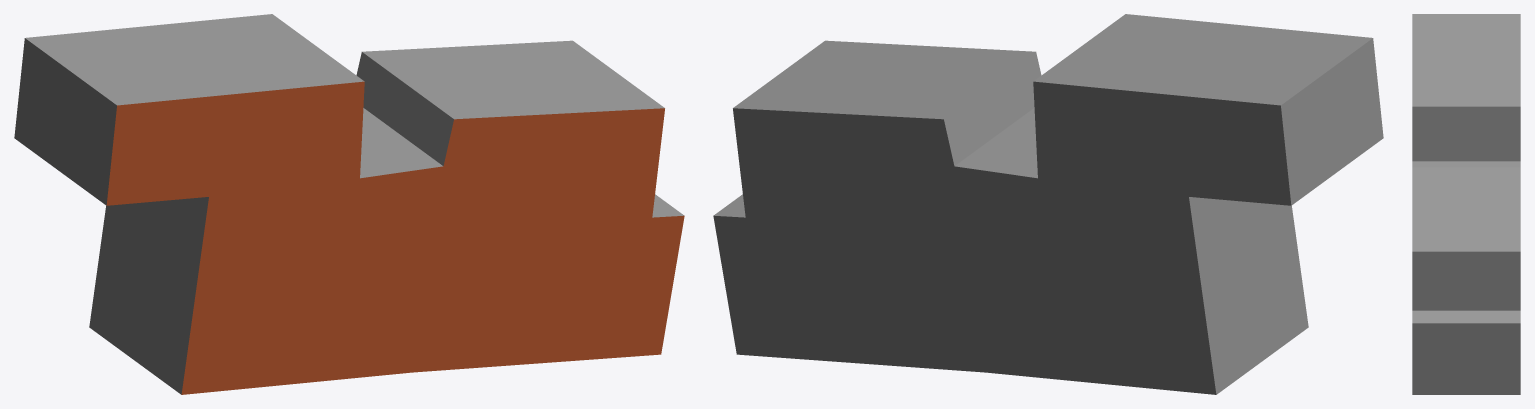
Rendered from construction_0583_assumed_A_Casa_h6m.obj.
3 renders of one model, left to right at view 1: azimuth 30°, elevation 25°; view 2: azimuth 150°, elevation 25°; view 3: azimuth 270°, elevation 25°, orthographic. The views are drawn at different scales.
Parts seen in each view (by area): view 1: construction_0583_assumed_A_Casa; view 2: construction_0583_assumed_A_Casa; view 3: construction_0583_assumed_A_Casa.
Boxes of the visible parts, box(x1,y1,x2,y2) form: construction_0583_assumed_A_Casa: box(14, 14, 684, 394); construction_0583_assumed_A_Casa: box(713, 14, 1383, 394); construction_0583_assumed_A_Casa: box(1412, 14, 1520, 394).
Size of the model in its own units: 21.69 by 13.69 by 6.
